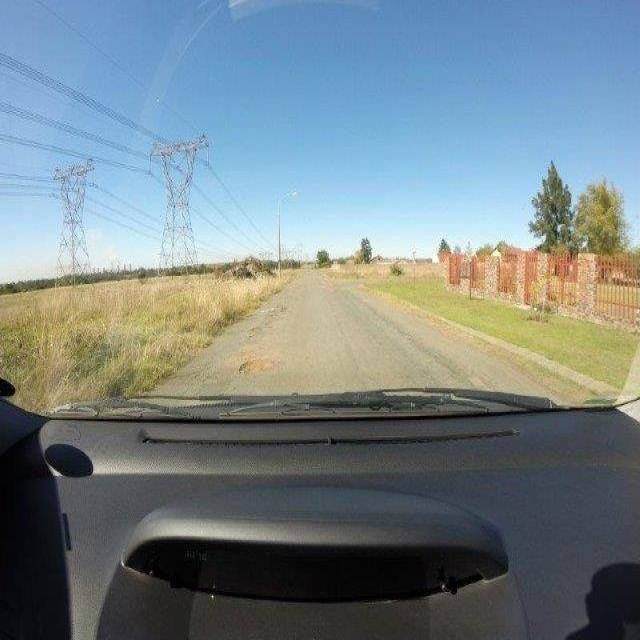lubang: (242, 298, 297, 342), (237, 356, 277, 379)
